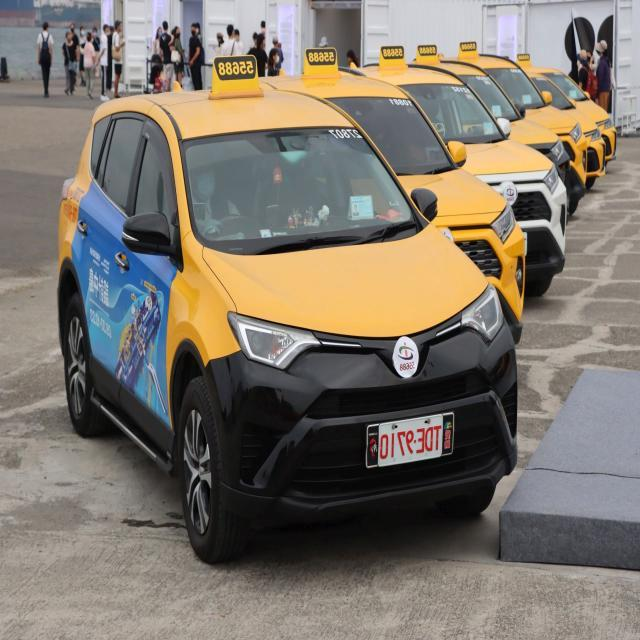taxi: (50, 44, 541, 590), (284, 33, 576, 295)
